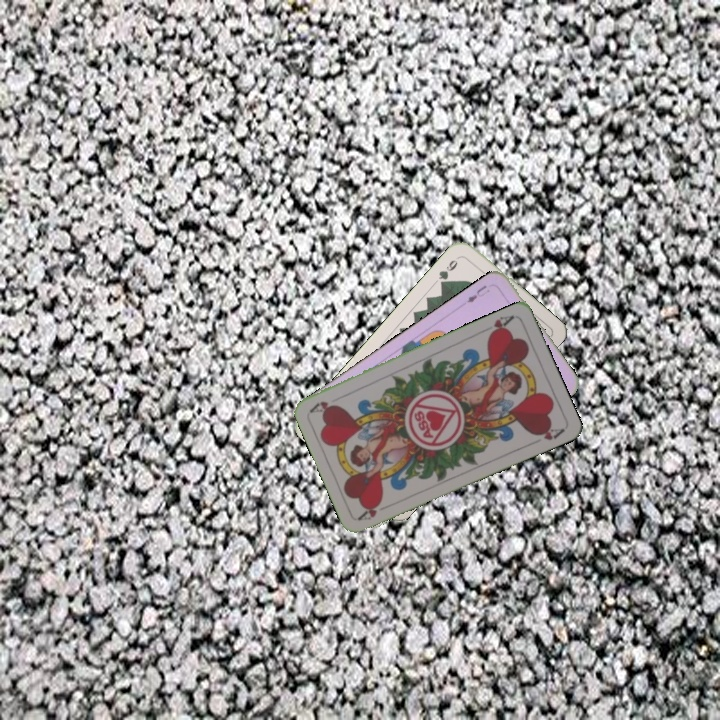EU: (463, 281, 493, 305)
G9: (435, 252, 463, 289)
HA: (479, 311, 517, 339), (355, 497, 394, 523)
